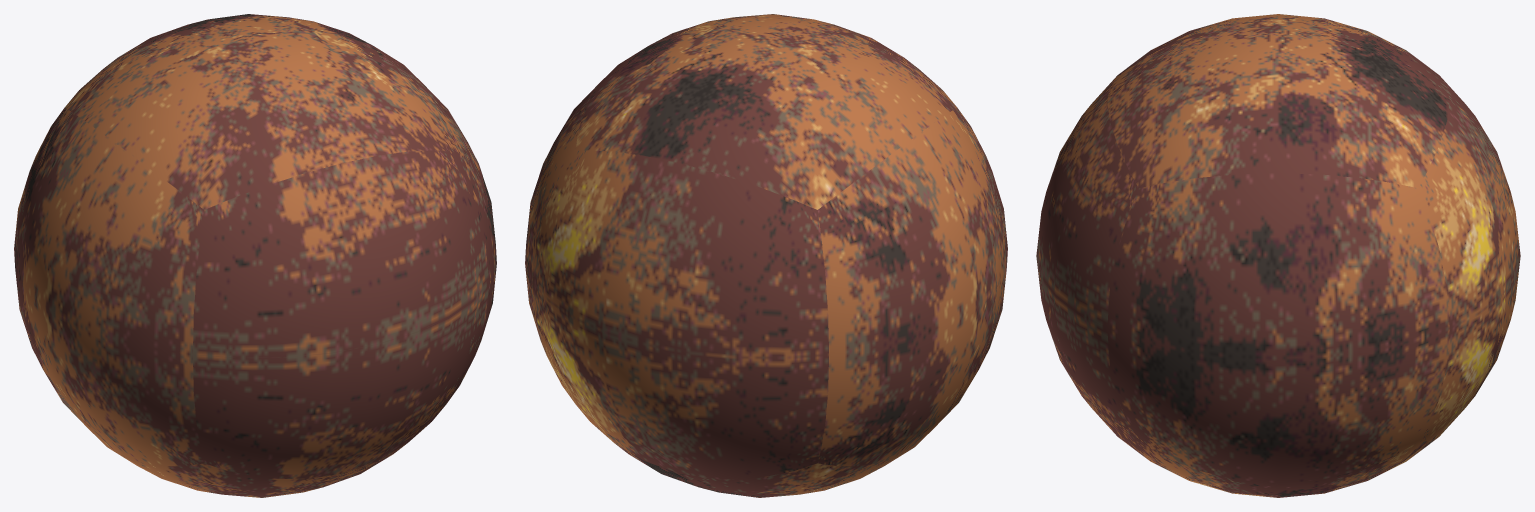
File: SM_Planet_02.fbx
3 views of the same model, side by side, from view 1: azimuth 30°, elevation 25°; view 2: azimuth 150°, elevation 25°; view 3: azimuth 270°, elevation 25° (orthographic).
Parts seen in each view (by area): view 1: SM_Planet_02; view 2: SM_Planet_02; view 3: SM_Planet_02.
Part boxes in pixels (x1,y1,x2,y2): SM_Planet_02: (14, 14, 496, 497); SM_Planet_02: (525, 14, 1007, 497); SM_Planet_02: (1036, 14, 1520, 497).
Size of the model in its own units: 171 by 171 by 171.
